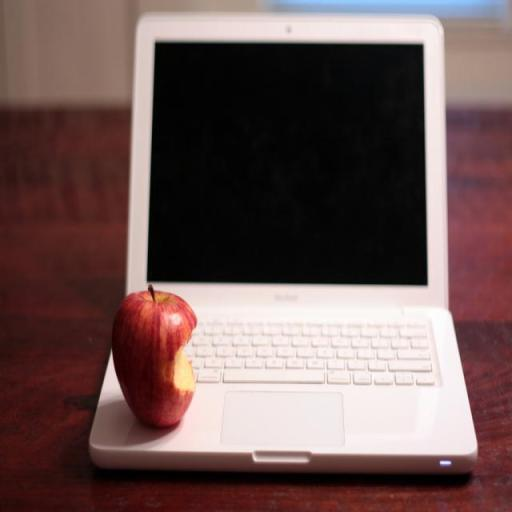fruit: (112, 285, 196, 426)
